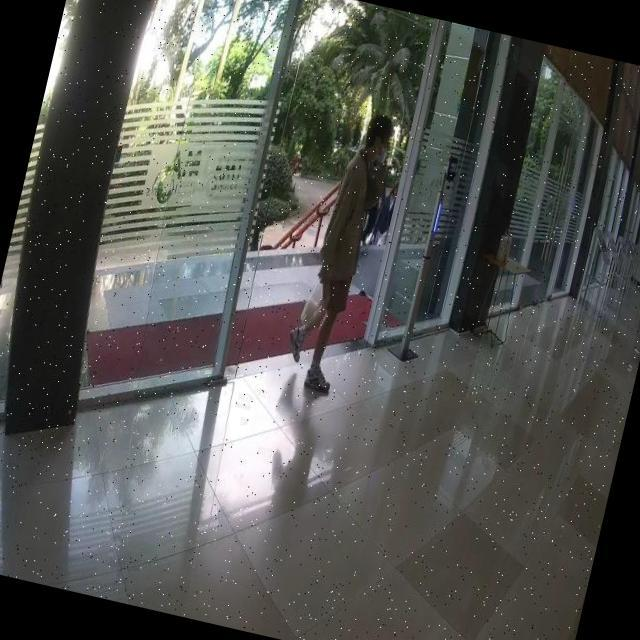person: (280, 103, 399, 394)
